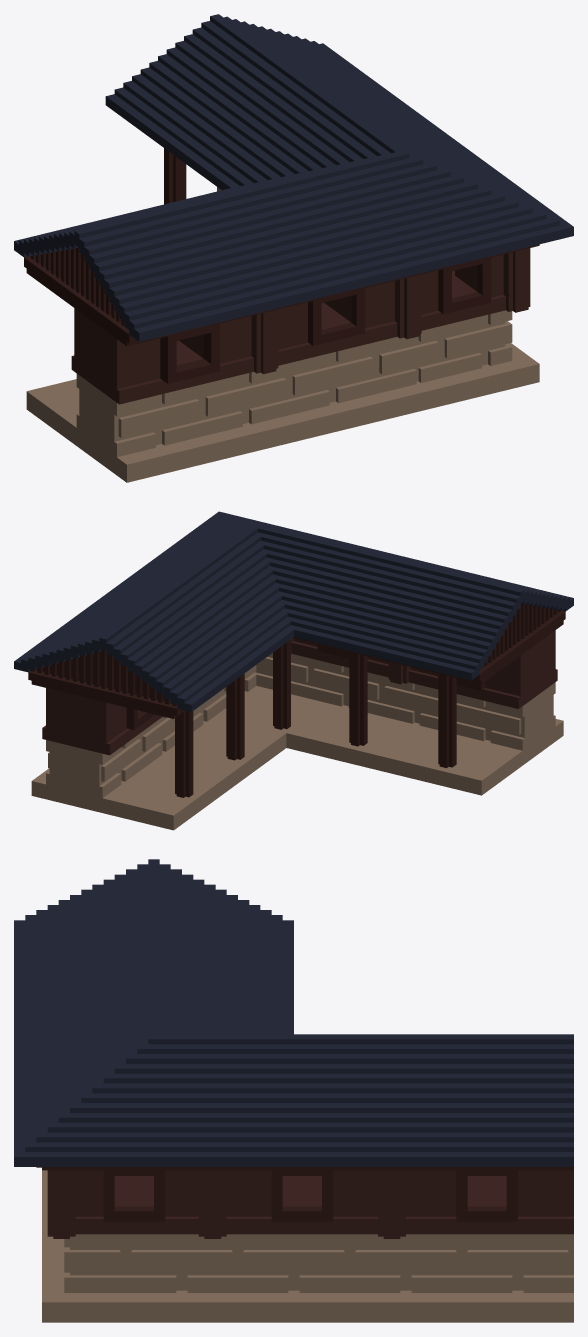
Rendered from Korean castle_small wall_02.FBX.
The picture shows the model from 3 angles, top to bottom: view 1: azimuth 30°, elevation 25°; view 2: azimuth 150°, elevation 25°; view 3: azimuth 270°, elevation 25°; orthographic projection. The views are drawn at different scales.
Visible parts, largest first — view 1: Voxel_Korean_traditional castle-14; view 2: Voxel_Korean_traditional castle-14; view 3: Voxel_Korean_traditional castle-14.
Part boxes in pixels (x1=…): Voxel_Korean_traditional castle-14: x1=14, y1=14, x2=573, y2=482; Voxel_Korean_traditional castle-14: x1=14, y1=511, x2=573, y2=830; Voxel_Korean_traditional castle-14: x1=14, y1=859, x2=573, y2=1322.
Bounding box in the file's own units: 200 × 94.05 × 200.
Materials: 1 (1 with a texture image).
